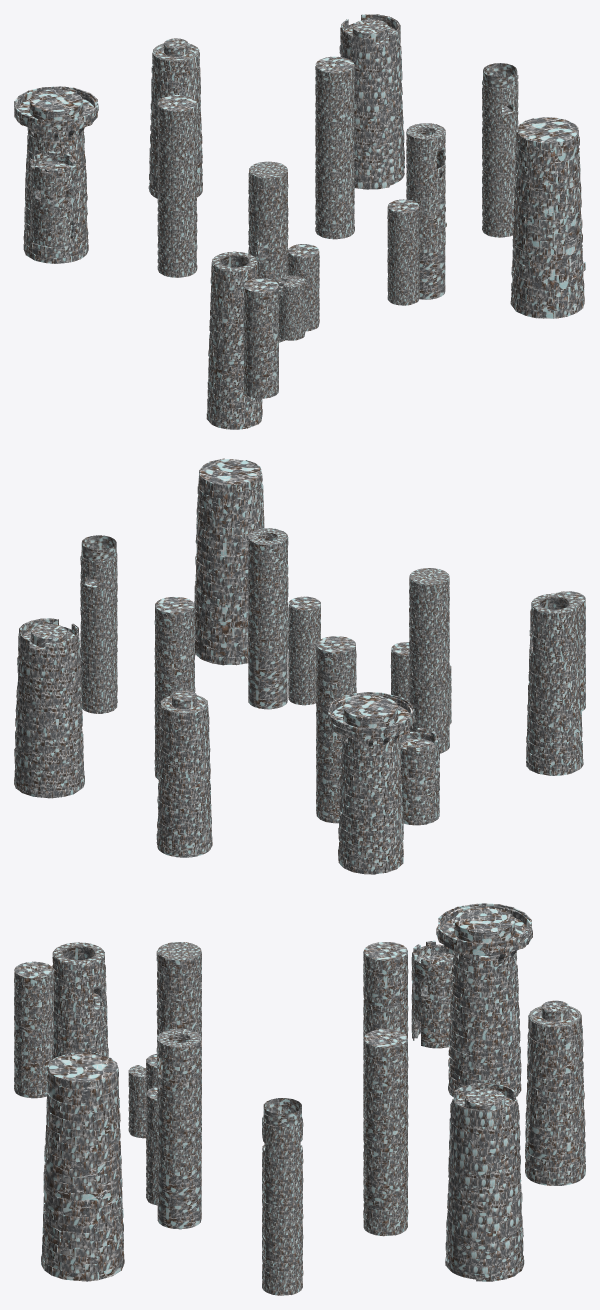
File: field_winter_tower.fbx
The picture shows the model from 3 angles, top to bottom: view 1: azimuth 30°, elevation 25°; view 2: azimuth 150°, elevation 25°; view 3: azimuth 270°, elevation 25°; orthographic projection. The views are drawn at different scales.
Visible parts, largest first — view 1: field_winter_tower10, field_winter_tower4, field_winter_tower3, field_winter_tower2, field_winter_tower8, field_winter_tower1, field_winter_tower7, field_winter_tower5, field_winter_tower9, field_winter_tower6; view 2: field_winter_tower4, field_winter_tower10, field_winter_tower8, field_winter_tower2, field_winter_tower3, field_winter_tower6, field_winter_tower1, field_winter_tower9, field_winter_tower5, field_winter_tower7; view 3: field_winter_tower4, field_winter_tower10, field_winter_tower8, field_winter_tower3, field_winter_tower6, field_winter_tower2, field_winter_tower7, field_winter_tower9, field_winter_tower1, field_winter_tower5.
Boxes of the visible parts, left/top/right/bottom form: field_winter_tower10: left=510, top=117, right=585, bottom=318; field_winter_tower4: left=14, top=86, right=98, bottom=263; field_winter_tower3: left=206, top=251, right=278, bottom=429; field_winter_tower2: left=387, top=123, right=446, bottom=305; field_winter_tower8: left=339, top=14, right=404, bottom=189; field_winter_tower1: left=248, top=161, right=319, bottom=342; field_winter_tower7: left=315, top=56, right=354, bottom=239; field_winter_tower5: left=157, top=95, right=197, bottom=277; field_winter_tower9: left=482, top=63, right=518, bottom=237; field_winter_tower6: left=148, top=38, right=202, bottom=198; field_winter_tower4: left=328, top=692, right=439, bottom=874; field_winter_tower10: left=194, top=458, right=264, bottom=665; field_winter_tower8: left=14, top=618, right=84, bottom=798; field_winter_tower2: left=247, top=528, right=320, bottom=709; field_winter_tower3: left=526, top=591, right=585, bottom=775; field_winter_tower6: left=156, top=690, right=212, bottom=857; field_winter_tower1: left=390, top=568, right=451, bottom=753; field_winter_tower9: left=80, top=535, right=117, bottom=713; field_winter_tower5: left=316, top=636, right=356, bottom=823; field_winter_tower7: left=154, top=596, right=195, bottom=779; field_winter_tower4: left=411, top=903, right=532, bottom=1096; field_winter_tower10: left=41, top=1052, right=124, bottom=1281; field_winter_tower8: left=445, top=1082, right=524, bottom=1281; field_winter_tower3: left=14, top=942, right=108, bottom=1098; field_winter_tower6: left=525, top=1000, right=585, bottom=1185; field_winter_tower2: left=146, top=1028, right=201, bottom=1229; field_winter_tower7: left=363, top=1029, right=408, bottom=1236; field_winter_tower9: left=262, top=1098, right=303, bottom=1295; field_winter_tower1: left=128, top=942, right=201, bottom=1144; field_winter_tower5: left=363, top=942, right=408, bottom=1139.
Bounding box in the file's own units: 5190 × 2515 × 5475.
1 material, 1 textured.
